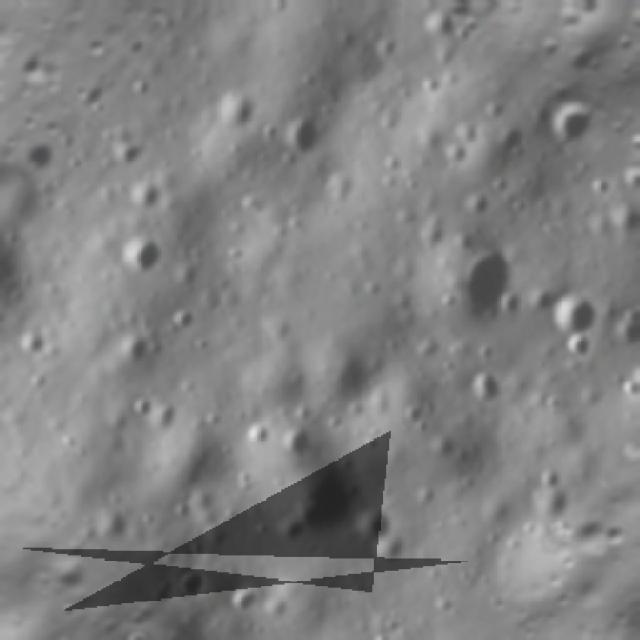crater: (429, 223, 536, 332), (274, 441, 380, 547), (538, 268, 614, 344), (208, 74, 269, 135), (116, 216, 176, 278), (275, 98, 333, 157), (347, 492, 405, 550), (462, 354, 520, 411), (108, 315, 160, 368), (121, 164, 173, 216), (598, 295, 640, 357), (415, 0, 468, 48), (274, 411, 323, 460), (172, 555, 220, 603), (106, 124, 152, 170), (223, 574, 269, 620), (458, 175, 502, 220), (490, 276, 533, 319), (604, 187, 640, 238), (450, 104, 492, 147), (439, 129, 479, 169), (532, 452, 572, 492), (125, 382, 163, 421), (358, 612, 409, 640), (242, 410, 280, 447), (168, 294, 205, 331), (561, 324, 596, 361), (589, 166, 620, 197), (332, 626, 366, 640), (0, 418, 9, 454)
